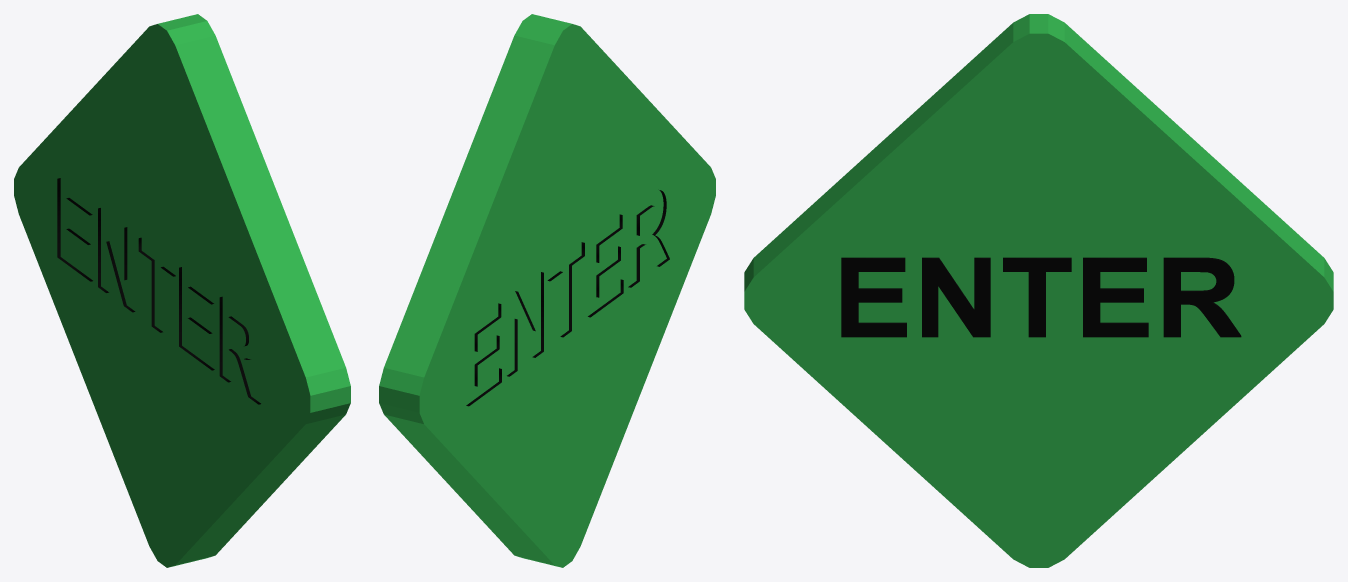
The model's file is lobby enter btn.glb.
3 views of the same model, side by side, from view 1: azimuth 30°, elevation 25°; view 2: azimuth 150°, elevation 25°; view 3: azimuth 270°, elevation 25° (orthographic).
Visible parts, largest first — view 1: Cube, Text; view 2: Cube, Text; view 3: Cube, Text.
Part boxes in pixels (x1,y1,x2,y2): Cube: [14, 14, 350, 567]; Text: [57, 178, 260, 404]; Cube: [379, 14, 715, 567]; Text: [466, 190, 669, 406]; Cube: [744, 14, 1333, 567]; Text: [841, 257, 1241, 337].
Size of the model in its own units: 0.022 by 0.2443 by 0.2443.
